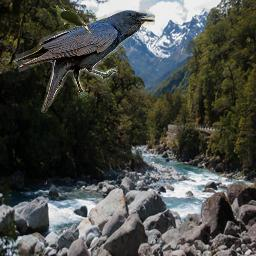Crow: (14, 10, 155, 113)
Cuckoo: (54, 5, 94, 35)
